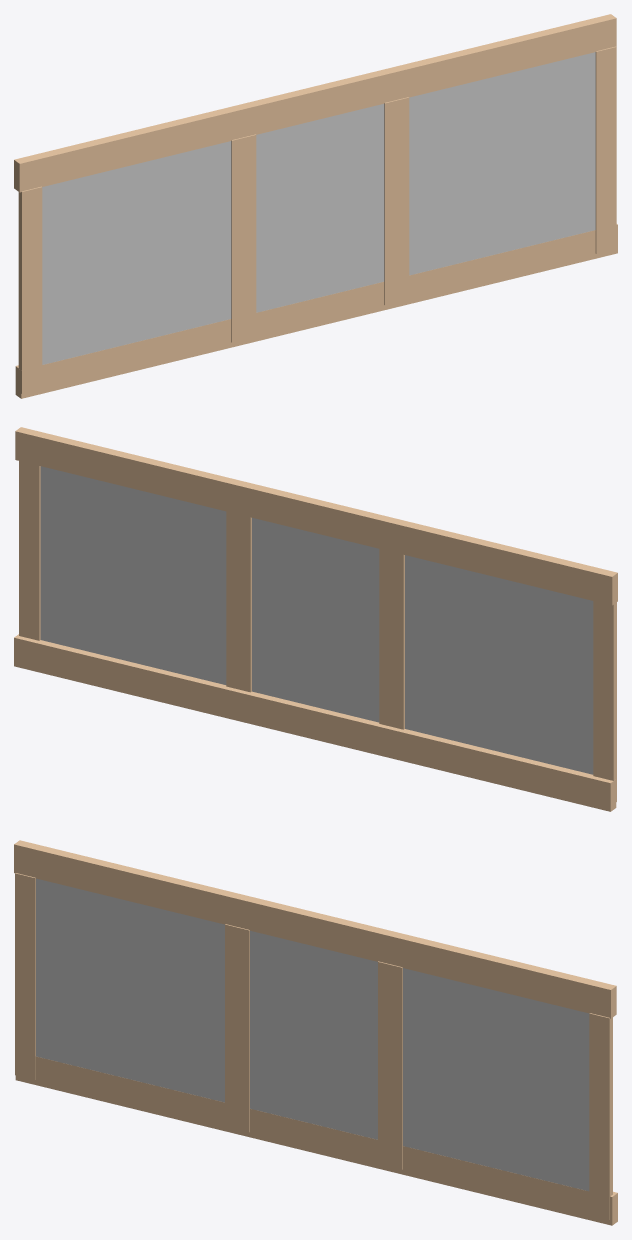
The model's file is Rong.fbx.
3 views of the same model, one above another, from view 1: azimuth 30°, elevation 25°; view 2: azimuth 150°, elevation 25°; view 3: azimuth 330°, elevation 25° (orthographic).
Visible parts, largest first — view 1: Cube, Cube.031, Cube.001, Cube.026, Cube.002, Cube.004, Cube.003; view 2: Cube, Cube.031, Cube.001, Cube.026, Cube.002, Cube.004, Cube.003; view 3: Cube, Cube.031, Cube.001, Cube.026, Cube.002, Cube.003, Cube.004.
Boxes of the visible parts, left/top/right/bottom form: Cube: left=42, top=52, right=595, bottom=364; Cube.031: left=14, top=14, right=616, bottom=192; Cube.001: left=15, top=224, right=617, bottom=398; Cube.026: left=384, top=97, right=409, bottom=305; Cube.002: left=231, top=134, right=256, bottom=342; Cube.004: left=18, top=186, right=42, bottom=393; Cube.003: left=595, top=46, right=616, bottom=253; Cube: left=40, top=466, right=593, bottom=774; Cube.031: left=15, top=427, right=617, bottom=605; Cube.001: left=14, top=634, right=616, bottom=811; Cube.026: left=226, top=511, right=251, bottom=692; Cube.002: left=379, top=549, right=404, bottom=729; Cube.004: left=593, top=601, right=616, bottom=801; Cube.003: left=19, top=461, right=40, bottom=640; Cube: left=36, top=878, right=589, bottom=1191; Cube.031: left=14, top=840, right=616, bottom=1018; Cube.001: left=15, top=1056, right=617, bottom=1225; Cube.026: left=378, top=961, right=402, bottom=1169; Cube.002: left=225, top=924, right=249, bottom=1132; Cube.003: left=589, top=1013, right=612, bottom=1220; Cube.004: left=15, top=873, right=35, bottom=1079.
Size of the model in its own units: 183 by 68.93 by 3.39.
